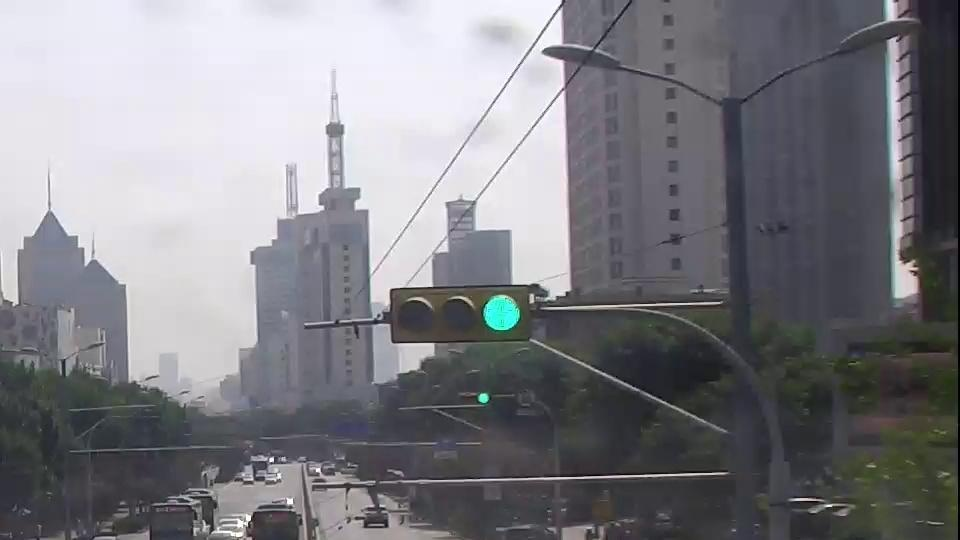green: (482, 293, 522, 333), (478, 393, 490, 404)
